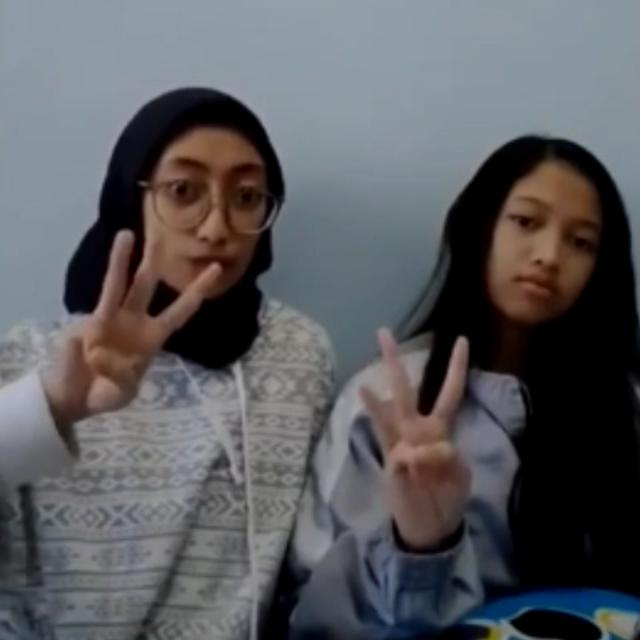W: (54, 229, 226, 417), (354, 324, 474, 544)
